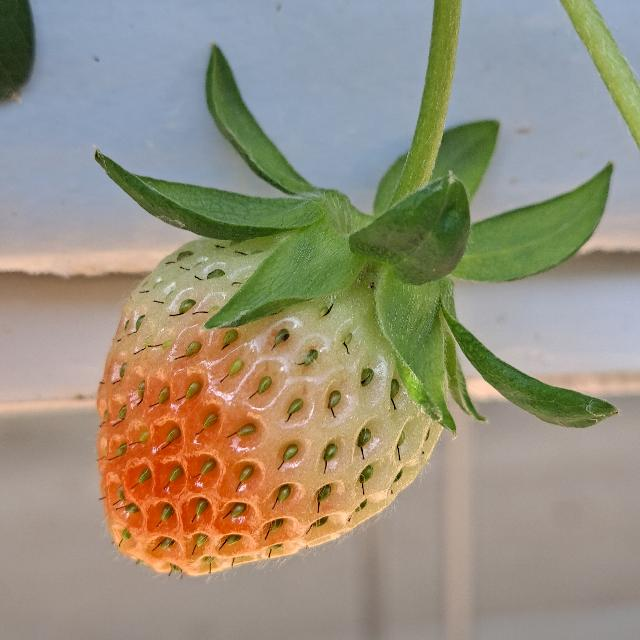Health_75: (95, 240, 442, 576)
